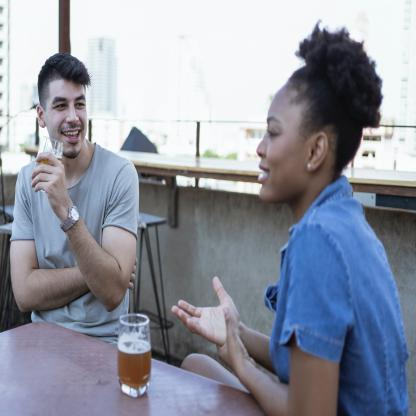Eye: (267, 126, 279, 139), (74, 102, 84, 110), (54, 104, 67, 110)
Mouth: (60, 128, 82, 143), (258, 164, 271, 184)
Nose: (256, 135, 267, 158), (66, 105, 79, 124)
